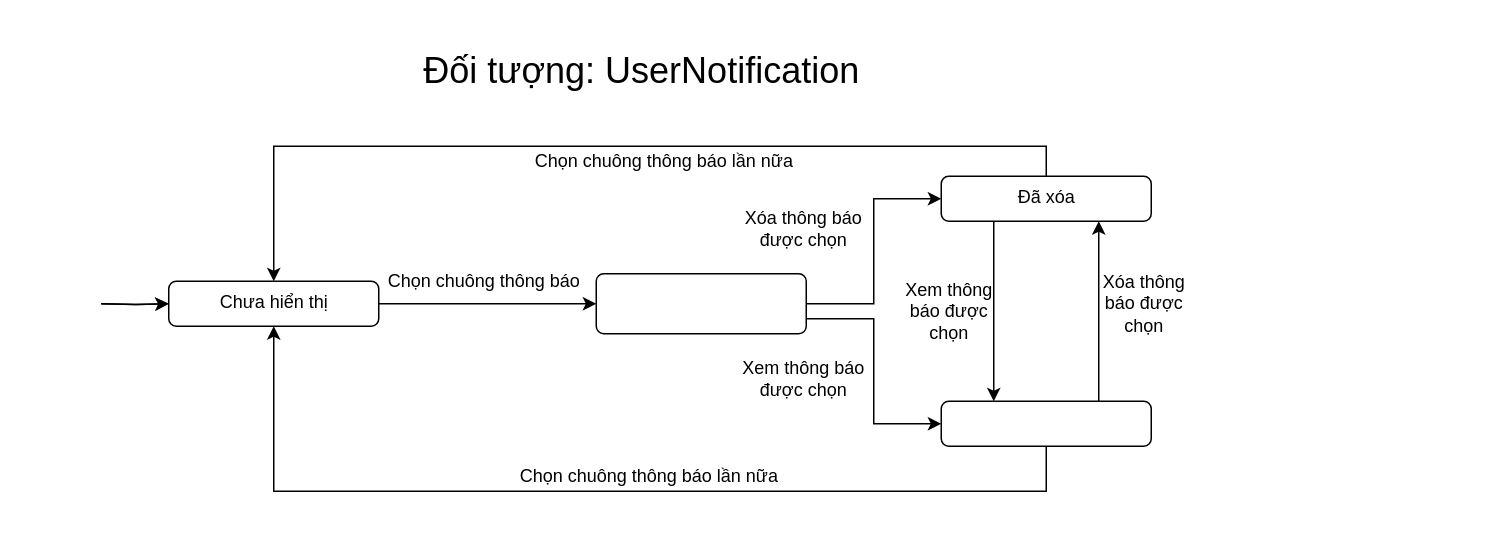
Image size: 1491x546. Some labels were removed from this diagram. The centre of each missing label's shape, as x and y in pixels:
Đã Đánh Dấu Đã Xem: the point at 1045,423
Được hiển thị: the point at 700,303
